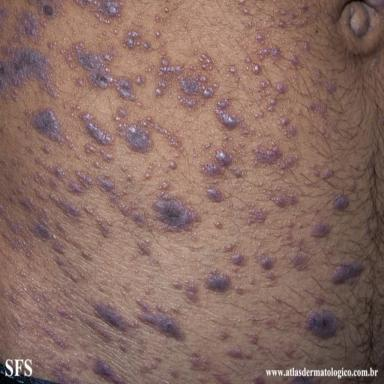lichen: (0, 6, 57, 101), (61, 43, 135, 100), (25, 108, 73, 149), (137, 299, 184, 340), (154, 192, 200, 231), (140, 116, 183, 150), (305, 309, 343, 339), (79, 113, 114, 145), (117, 121, 153, 152), (179, 71, 218, 98), (77, 0, 122, 23), (94, 303, 130, 331), (49, 193, 80, 221), (215, 99, 242, 128), (93, 359, 124, 383), (331, 262, 363, 285), (35, 157, 65, 181), (215, 150, 241, 177), (51, 360, 79, 384), (31, 209, 53, 239), (9, 187, 35, 211), (85, 319, 112, 341), (206, 270, 230, 293), (0, 204, 19, 233), (29, 1, 63, 17), (252, 146, 281, 164), (42, 326, 65, 348), (158, 59, 183, 75), (190, 352, 210, 372), (2, 232, 25, 249), (97, 174, 115, 193), (258, 46, 281, 60), (311, 221, 331, 237), (201, 162, 223, 176), (257, 253, 275, 270), (247, 208, 266, 224), (279, 155, 299, 170), (308, 102, 327, 117), (291, 253, 308, 269), (207, 186, 223, 203), (76, 172, 93, 188), (125, 30, 140, 48), (178, 96, 197, 109), (199, 54, 214, 70), (333, 195, 349, 210), (97, 218, 109, 237), (131, 210, 145, 226), (212, 372, 230, 384), (186, 283, 197, 301), (113, 108, 127, 122), (140, 362, 156, 373), (69, 181, 83, 193), (137, 241, 149, 255), (284, 125, 297, 137), (232, 253, 245, 265), (119, 203, 131, 216), (100, 150, 113, 162), (53, 241, 65, 254), (34, 172, 46, 185), (227, 349, 243, 358), (325, 82, 337, 93), (322, 169, 334, 179), (275, 197, 287, 207), (85, 144, 96, 154), (223, 243, 235, 252), (56, 221, 65, 233), (313, 164, 321, 177), (135, 75, 145, 85), (277, 83, 287, 93), (285, 347, 295, 357), (316, 295, 325, 306), (267, 270, 276, 281), (83, 206, 94, 215), (49, 179, 58, 190), (261, 80, 271, 89), (290, 55, 299, 65), (219, 331, 229, 340), (250, 334, 259, 344), (349, 180, 357, 191), (36, 192, 47, 200), (141, 41, 150, 50), (158, 80, 167, 89), (256, 34, 265, 43), (109, 195, 118, 204), (82, 251, 91, 260), (266, 317, 275, 326), (253, 64, 261, 74), (254, 376, 264, 384), (58, 309, 69, 316), (229, 65, 237, 74), (281, 117, 289, 126), (289, 197, 297, 206), (42, 146, 51, 154), (76, 78, 85, 86), (155, 88, 163, 96), (314, 70, 322, 78), (278, 20, 286, 28), (119, 345, 127, 353), (255, 111, 264, 118), (169, 161, 176, 170), (162, 181, 169, 190), (279, 9, 287, 16), (173, 282, 181, 289), (215, 222, 223, 229), (235, 287, 243, 294), (48, 42, 56, 49), (268, 106, 275, 113), (71, 275, 78, 282), (155, 30, 161, 38), (304, 42, 309, 51), (270, 99, 276, 106), (126, 174, 132, 181), (57, 259, 64, 265), (171, 371, 178, 377), (245, 57, 251, 63), (145, 173, 151, 179), (95, 162, 101, 168), (245, 353, 251, 359), (239, 0, 245, 5), (243, 9, 249, 13)
